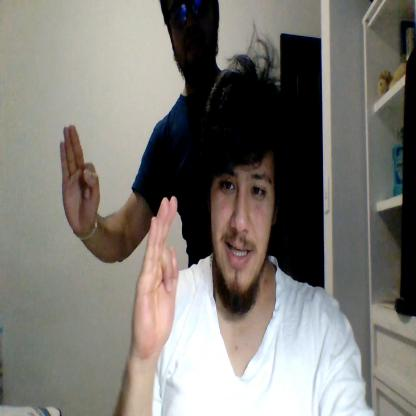F: (131, 195, 179, 360), (60, 124, 100, 236)
